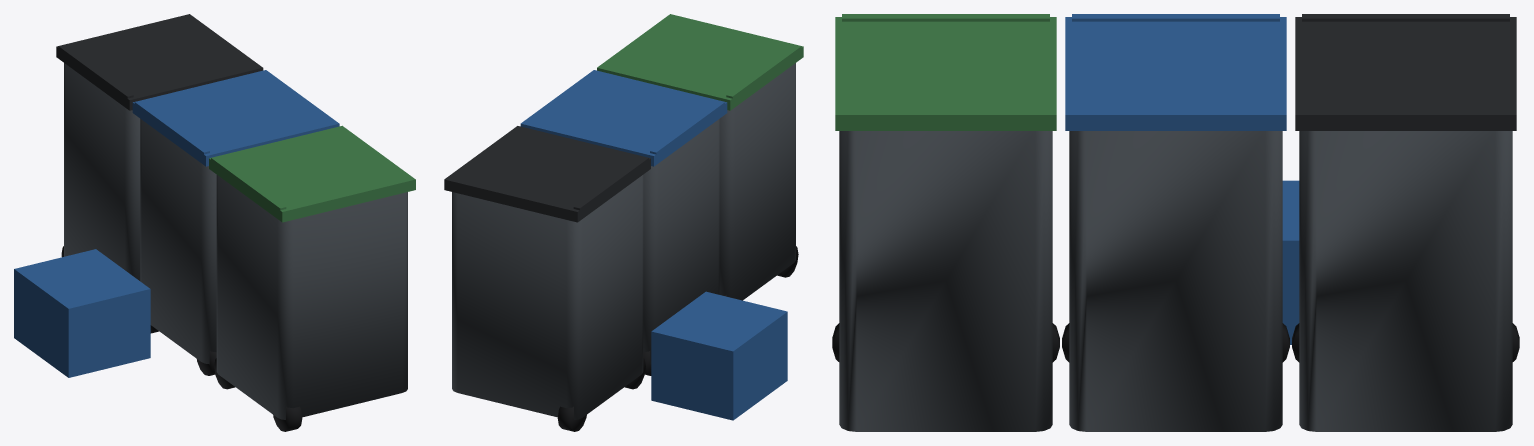
Rendered from garage_bins.glb.
The picture shows the model from 3 angles, left to right: view 1: azimuth 30°, elevation 25°; view 2: azimuth 150°, elevation 25°; view 3: azimuth 270°, elevation 25°; orthographic projection. The views are drawn at different scales.
Parts seen in each view (by area): view 1: root; view 2: root; view 3: root.
Part boxes in pixels (bbox=[...]): root: bbox=[14, 14, 415, 431]; root: bbox=[444, 14, 803, 431]; root: bbox=[832, 14, 1519, 431].
Size of the model in its own units: 1.12 by 1.05 by 1.91.
